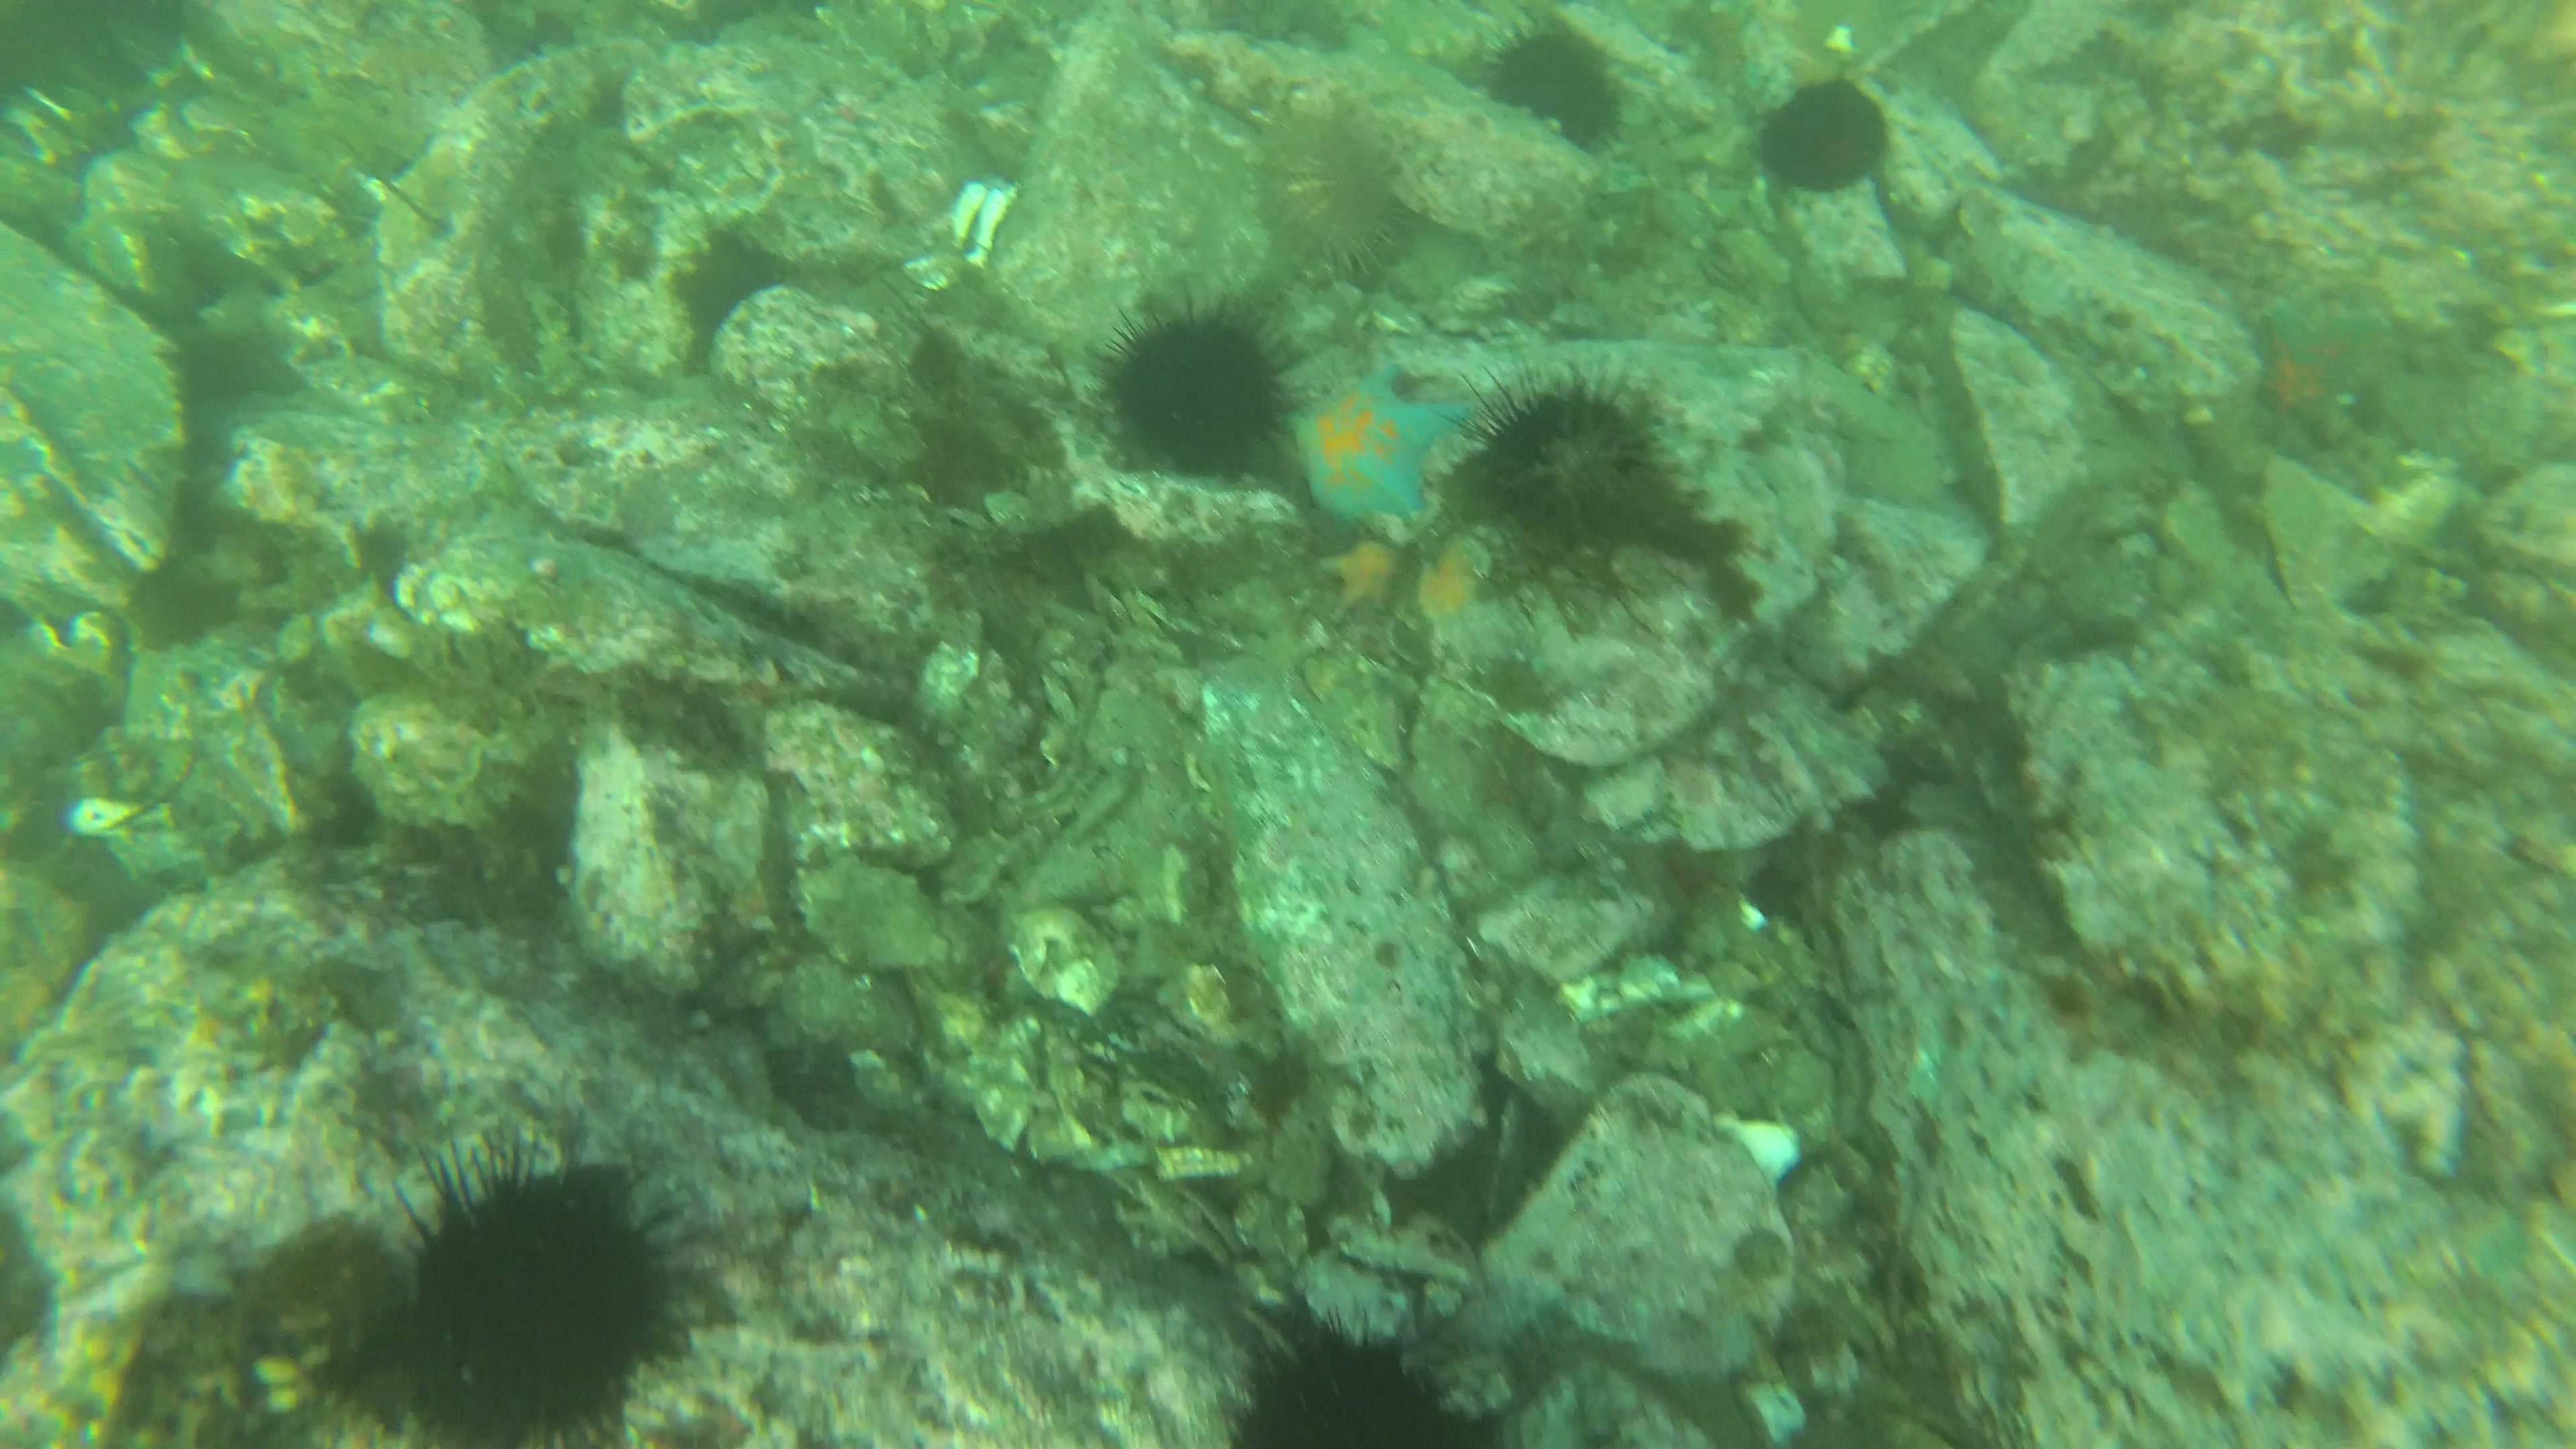echinus: (343, 1143, 679, 1449), (1445, 354, 1668, 575), (1086, 288, 1293, 485), (1214, 1307, 1481, 1449), (1235, 104, 1412, 294), (1488, 16, 1626, 168), (1760, 65, 1891, 193)
starfish: (1283, 361, 1474, 525), (2240, 297, 2380, 435), (1327, 536, 1407, 612), (1410, 540, 1481, 625)
